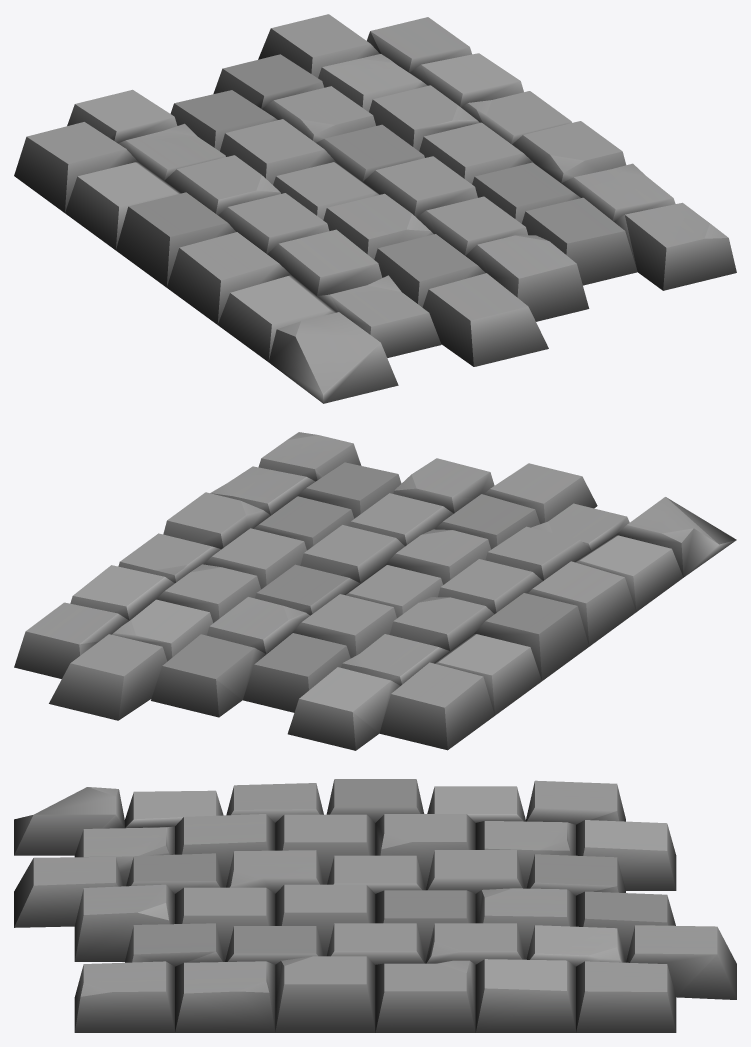
Rendered from CobbledStreet2_Half.fbx.
The picture shows the model from 3 angles, top to bottom: view 1: azimuth 30°, elevation 25°; view 2: azimuth 150°, elevation 25°; view 3: azimuth 270°, elevation 25°; orthographic projection. The views are drawn at different scales.
Visible parts, largest first — view 1: CobbledStreet2_Half; view 2: CobbledStreet2_Half; view 3: CobbledStreet2_Half.
Part boxes in pixels (x1=…): CobbledStreet2_Half: x1=14, y1=14, x2=736, y2=403; CobbledStreet2_Half: x1=14, y1=432, x2=736, y2=750; CobbledStreet2_Half: x1=14, y1=779, x2=736, y2=1032.
Size of the model in its own units: 4.22 by 0.4211 by 6.04.
